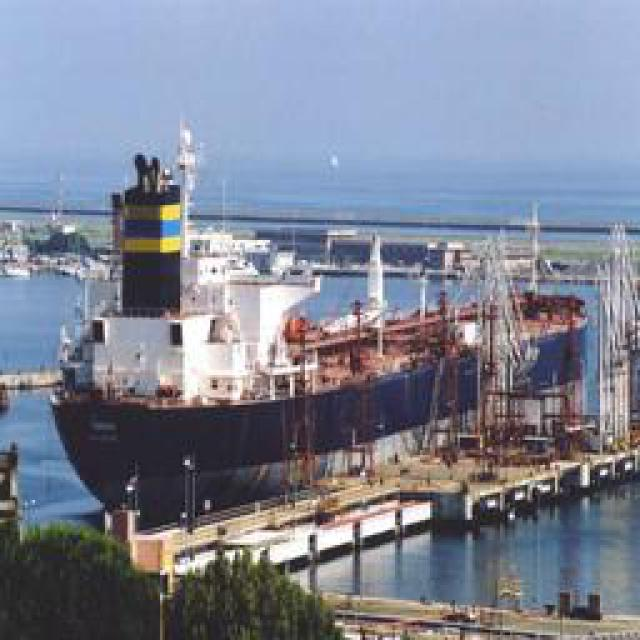Ship: (56, 117, 544, 517)
